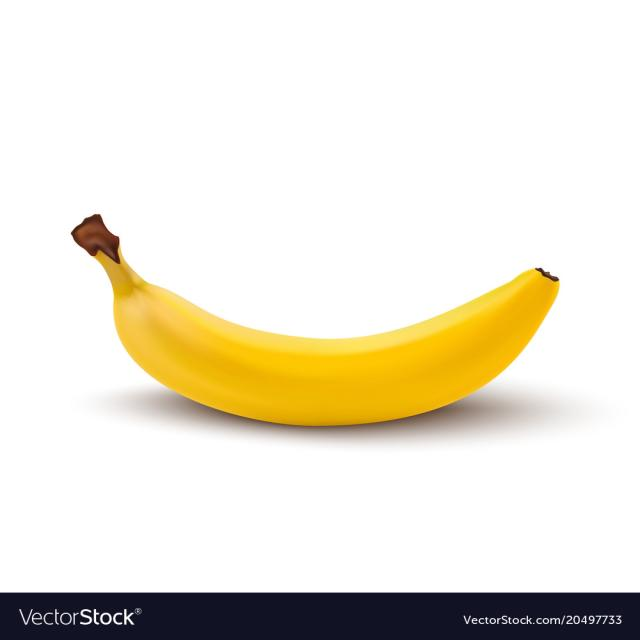non_orange: (80, 211, 561, 430)
